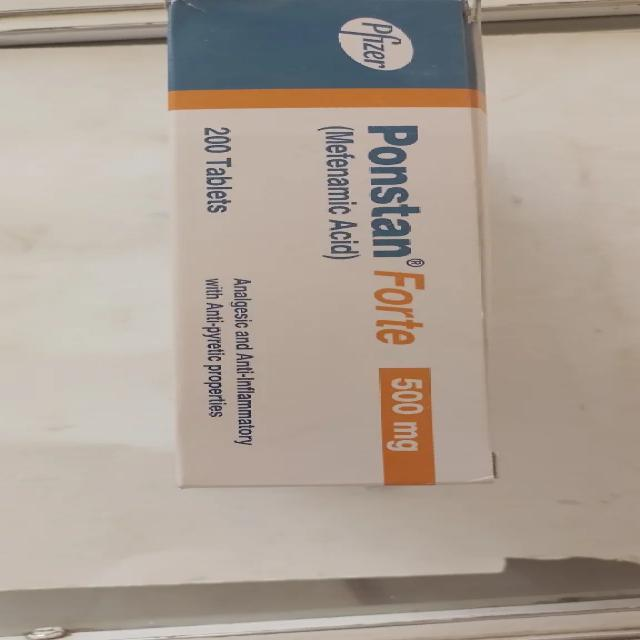drug-name: (366, 115, 439, 347)
